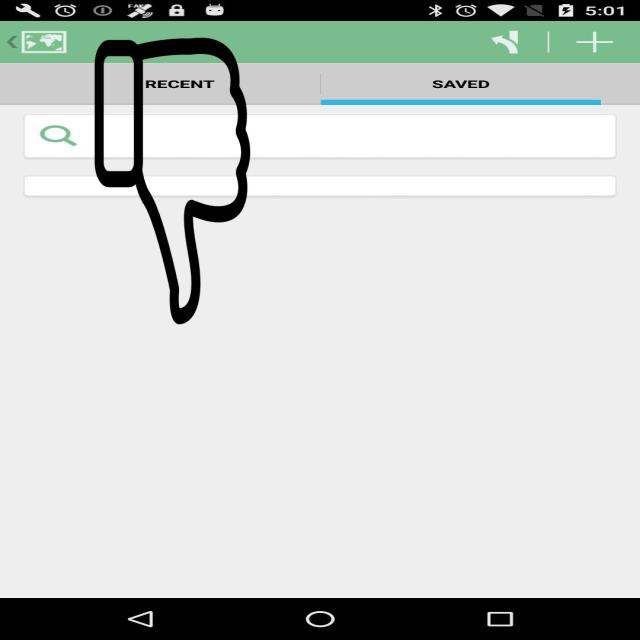obstruction: (92, 38, 252, 324)
